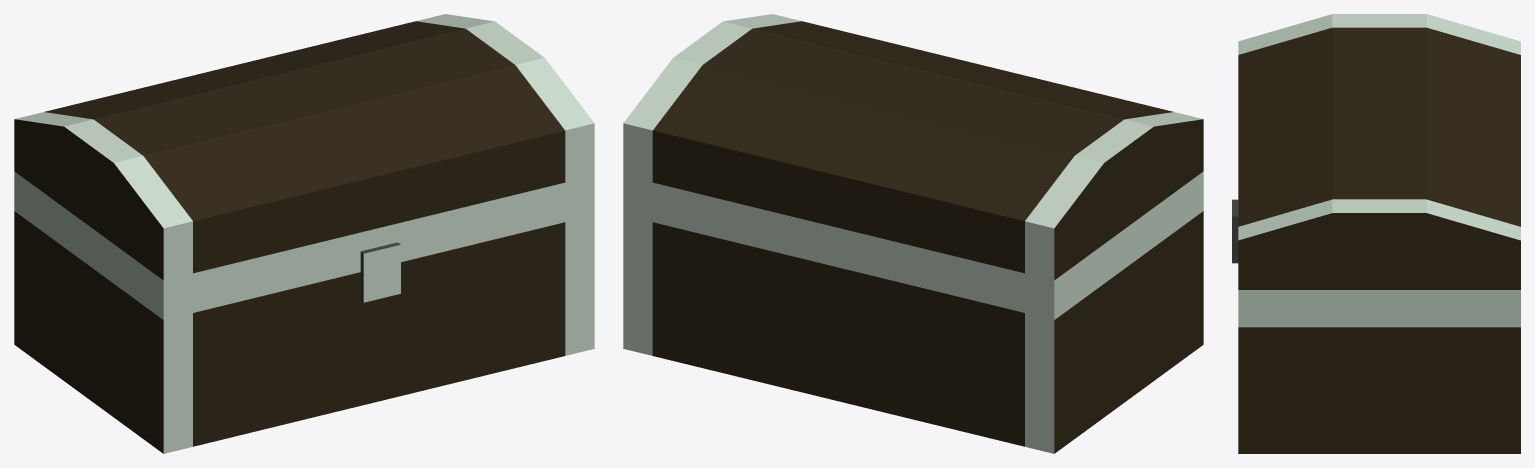
3 renders of one model, left to right at view 1: azimuth 30°, elevation 25°; view 2: azimuth 150°, elevation 25°; view 3: azimuth 270°, elevation 25°, orthographic. The views are drawn at different scales.
Parts seen in each view (by area): view 1: Box043; view 2: Box043; view 3: Box043.
Part boxes in pixels (x1,y1,x2,y2): Box043: [14, 14, 594, 453]; Box043: [623, 14, 1203, 453]; Box043: [1232, 14, 1520, 453].
Size of the model in its own units: 1 by 0.5643 by 0.6129.
